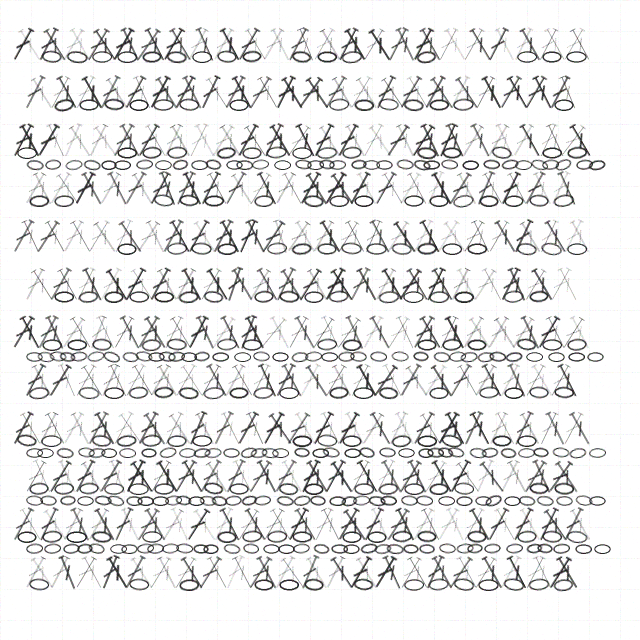chain: (452, 193, 475, 209), (540, 241, 563, 257), (440, 433, 463, 449), (53, 97, 75, 113), (553, 193, 575, 208), (453, 577, 475, 592), (503, 577, 525, 592), (491, 145, 512, 160), (153, 193, 174, 208), (516, 337, 537, 352), (16, 433, 37, 448), (203, 481, 224, 496), (66, 50, 88, 64), (341, 50, 363, 64), (316, 146, 338, 160), (378, 290, 400, 304), (28, 386, 50, 400), (78, 386, 100, 400), (203, 386, 225, 400), (566, 530, 588, 544), (166, 50, 187, 64), (291, 50, 312, 64), (416, 50, 437, 64), (403, 98, 424, 112), (216, 146, 237, 160), (416, 146, 437, 160), (303, 194, 324, 208), (291, 242, 312, 256), (391, 242, 412, 256), (516, 242, 537, 256), (78, 290, 99, 304), (178, 290, 199, 304), (203, 290, 224, 304), (141, 338, 162, 352), (178, 386, 199, 400), (253, 386, 274, 400), (378, 386, 399, 400), (91, 434, 112, 448), (116, 434, 137, 448), (391, 434, 412, 448), (278, 482, 299, 496), (378, 482, 399, 496), (91, 530, 112, 544), (553, 578, 574, 592), (528, 578, 550, 591), (554, 157, 573, 172), (484, 493, 503, 508), (41, 50, 62, 63), (378, 98, 399, 111), (453, 98, 474, 111), (266, 146, 287, 159), (191, 242, 212, 255), (341, 242, 362, 255), (328, 290, 349, 303), (503, 290, 524, 303), (166, 338, 187, 351), (128, 386, 149, 399), (141, 434, 162, 447), (353, 578, 374, 591), (428, 578, 449, 591), (530, 158, 549, 172), (102, 350, 121, 364), (106, 494, 125, 508), (217, 50, 237, 63), (242, 50, 262, 63), (104, 98, 124, 111), (179, 98, 199, 111), (329, 98, 349, 111), (142, 146, 162, 159), (167, 146, 187, 159), (342, 146, 362, 159), (567, 146, 587, 159), (179, 194, 199, 207), (529, 194, 549, 207), (167, 242, 187, 255), (267, 242, 287, 255), (417, 242, 437, 255), (254, 290, 274, 303), (279, 290, 299, 303), (529, 290, 549, 303), (92, 338, 112, 351), (217, 338, 237, 351), (317, 338, 337, 351), (442, 338, 462, 351), (567, 338, 587, 351), (154, 386, 174, 399), (329, 386, 349, 399), (479, 386, 499, 399), (529, 386, 549, 399), (554, 386, 574, 399), (317, 434, 337, 447), (29, 482, 49, 495), (54, 482, 74, 495), (79, 482, 99, 495), (454, 482, 474, 495), (529, 482, 549, 495), (554, 482, 574, 495), (42, 530, 62, 543), (242, 530, 262, 543), (267, 530, 287, 543), (392, 530, 412, 543), (417, 530, 437, 543), (467, 530, 487, 543), (517, 530, 537, 543), (542, 530, 562, 543), (29, 578, 49, 591), (129, 578, 149, 591), (304, 578, 324, 591), (566, 51, 587, 63), (153, 99, 174, 111), (413, 158, 431, 172), (366, 243, 387, 255), (403, 291, 424, 303), (353, 387, 374, 399), (41, 435, 62, 447), (358, 446, 376, 460), (128, 483, 149, 495), (66, 531, 87, 543), (478, 579, 499, 591), (92, 51, 112, 63), (117, 51, 137, 63), (142, 51, 162, 63), (192, 51, 212, 63), (317, 51, 337, 63), (517, 51, 537, 63), (542, 51, 562, 63), (79, 99, 99, 111), (129, 99, 149, 111), (229, 99, 249, 111), (354, 99, 374, 111), (429, 99, 449, 111), (554, 99, 574, 111), (17, 147, 37, 159), (117, 147, 137, 159), (242, 147, 262, 159), (292, 147, 312, 159), (442, 147, 462, 159), (542, 147, 562, 159), (29, 195, 49, 207), (54, 195, 74, 207), (204, 195, 224, 207), (254, 195, 274, 207), (329, 195, 349, 207), (354, 195, 374, 207), (404, 195, 424, 207), (429, 195, 449, 207), (479, 195, 499, 207), (504, 195, 524, 207), (117, 243, 137, 255), (217, 243, 237, 255), (317, 243, 337, 255), (442, 243, 462, 255), (467, 243, 487, 255), (567, 243, 587, 255), (54, 291, 74, 303), (104, 291, 124, 303), (129, 291, 149, 303), (154, 291, 174, 303), (304, 291, 324, 303), (429, 291, 449, 303), (454, 291, 474, 303), (42, 339, 62, 351), (67, 339, 87, 351), (242, 339, 262, 351), (342, 339, 362, 351), (417, 339, 437, 351), (467, 339, 487, 351), (542, 339, 562, 351), (104, 387, 124, 399), (229, 387, 249, 399), (279, 387, 299, 399), (429, 387, 449, 399), (504, 387, 524, 399), (167, 435, 187, 447), (192, 435, 212, 447), (292, 435, 312, 447), (342, 435, 362, 447), (417, 435, 437, 447), (492, 435, 512, 447), (517, 435, 537, 447), (104, 483, 124, 495), (154, 483, 174, 495), (229, 483, 249, 495), (304, 483, 324, 495), (354, 483, 374, 495), (404, 483, 424, 495), (429, 483, 449, 495), (17, 531, 37, 543), (142, 531, 162, 543), (217, 531, 237, 543), (292, 531, 312, 543), (342, 531, 362, 543), (367, 531, 387, 543), (179, 579, 199, 591), (254, 579, 274, 591), (279, 579, 299, 591), (404, 579, 424, 591), (501, 158, 519, 171), (87, 350, 105, 363), (135, 350, 153, 363), (159, 446, 177, 459), (240, 446, 258, 459), (322, 446, 340, 459), (447, 446, 465, 459), (293, 494, 311, 507), (575, 494, 593, 507), (360, 542, 378, 555), (172, 158, 189, 171), (205, 158, 222, 171), (437, 446, 454, 459), (241, 494, 258, 507), (88, 542, 105, 555), (26, 159, 44, 171), (65, 159, 83, 171), (83, 159, 101, 171), (588, 159, 606, 171), (37, 351, 55, 363), (291, 351, 309, 363), (433, 351, 451, 363), (460, 351, 478, 363), (477, 351, 495, 363), (505, 351, 523, 363), (56, 447, 74, 459), (88, 447, 106, 459), (193, 447, 211, 459), (204, 447, 222, 459), (250, 447, 268, 459), (261, 447, 279, 459), (469, 447, 487, 459), (569, 447, 587, 459), (199, 495, 217, 507), (276, 495, 294, 507), (368, 495, 386, 507), (518, 495, 536, 507), (536, 495, 554, 507), (223, 543, 241, 555), (374, 543, 392, 555), (386, 543, 404, 555), (59, 351, 76, 363), (122, 351, 139, 363), (500, 447, 517, 459), (211, 495, 228, 507), (341, 495, 358, 507), (313, 543, 330, 555), (396, 159, 414, 170), (49, 351, 67, 362), (70, 351, 88, 362), (158, 351, 176, 362), (391, 351, 409, 362), (481, 447, 499, 458), (552, 447, 570, 458), (94, 495, 112, 506), (456, 543, 474, 554), (136, 159, 153, 170), (252, 159, 269, 170), (295, 159, 312, 170), (441, 159, 458, 170), (483, 159, 500, 170), (542, 159, 559, 170), (576, 159, 593, 170), (168, 351, 185, 362), (253, 351, 270, 362), (305, 351, 322, 362), (338, 351, 355, 362), (350, 351, 367, 362), (370, 351, 387, 362), (449, 351, 466, 362), (489, 351, 506, 362), (78, 447, 95, 458), (379, 447, 396, 458), (427, 447, 444, 458), (26, 495, 43, 506), (40, 495, 57, 506), (165, 495, 182, 506), (175, 495, 192, 506), (225, 495, 242, 506), (254, 495, 271, 506), (353, 495, 370, 506), (380, 495, 397, 506), (401, 495, 418, 506), (416, 495, 433, 506), (26, 543, 43, 554), (44, 543, 61, 554), (63, 543, 80, 554), (137, 543, 154, 554), (147, 543, 164, 554), (162, 543, 179, 554), (176, 543, 193, 554), (293, 543, 310, 554), (439, 543, 456, 554), (484, 543, 501, 554), (506, 543, 523, 554), (526, 543, 543, 554), (553, 543, 570, 554), (45, 159, 61, 170), (319, 159, 335, 170), (351, 159, 367, 170), (194, 351, 210, 362), (413, 351, 429, 362), (294, 447, 310, 458), (533, 447, 549, 458), (60, 495, 76, 506), (310, 495, 326, 506), (77, 543, 93, 554), (243, 543, 259, 554), (467, 543, 483, 554), (537, 543, 553, 554), (114, 160, 131, 170), (155, 160, 172, 170), (191, 160, 208, 170), (226, 160, 243, 170), (236, 160, 253, 170), (274, 160, 291, 170), (307, 160, 324, 170), (329, 160, 346, 170), (363, 160, 380, 170), (376, 160, 393, 170), (423, 160, 440, 170), (462, 160, 479, 170), (515, 160, 532, 170), (26, 352, 43, 362), (148, 352, 165, 362), (212, 352, 229, 362), (234, 352, 251, 362), (272, 352, 289, 362), (321, 352, 338, 362), (526, 352, 543, 362), (548, 352, 565, 362), (568, 352, 585, 362), (587, 352, 604, 362), (26, 448, 43, 458), (37, 448, 54, 458), (119, 448, 136, 458), (179, 448, 196, 458), (223, 448, 240, 458), (272, 448, 289, 458), (312, 448, 329, 458), (344, 448, 361, 458), (398, 448, 415, 458), (518, 448, 535, 458), (589, 448, 606, 458), (77, 496, 94, 506), (126, 496, 143, 506), (137, 496, 154, 506), (152, 496, 169, 506), (188, 496, 205, 506), (329, 496, 346, 506), (438, 496, 455, 506), (456, 496, 473, 506), (475, 496, 492, 506), (504, 496, 521, 506), (556, 496, 573, 506), (589, 496, 606, 506), (110, 544, 127, 554), (121, 544, 138, 554), (263, 544, 280, 554), (278, 544, 295, 554), (331, 544, 348, 554), (343, 544, 360, 554), (575, 544, 592, 554), (594, 544, 611, 554), (101, 160, 117, 170), (181, 352, 197, 362), (101, 448, 117, 458), (141, 448, 157, 458), (418, 448, 434, 458), (193, 544, 209, 554), (203, 544, 219, 554), (403, 544, 419, 554), (419, 544, 435, 554)
double: (257, 315, 289, 350), (477, 459, 508, 495), (557, 123, 588, 158), (133, 27, 163, 63), (295, 75, 325, 111), (303, 75, 333, 111), (378, 75, 408, 111), (91, 123, 121, 159), (283, 123, 313, 159), (366, 123, 396, 159), (53, 171, 83, 207), (328, 171, 358, 207), (116, 219, 146, 255), (133, 219, 163, 255), (283, 219, 313, 255), (58, 315, 88, 351), (208, 315, 238, 351), (333, 315, 363, 351), (370, 363, 400, 399), (116, 411, 146, 447), (266, 411, 296, 447), (453, 459, 483, 495), (545, 459, 575, 495), (41, 507, 71, 543), (541, 507, 571, 543), (28, 555, 58, 591), (278, 555, 308, 591), (445, 555, 475, 591), (16, 27, 45, 63), (41, 27, 70, 63), (83, 27, 112, 63), (91, 27, 120, 63), (366, 27, 395, 63), (28, 75, 57, 111), (103, 75, 132, 111), (153, 75, 182, 111), (203, 75, 232, 111), (245, 75, 274, 111), (353, 75, 382, 111), (428, 75, 457, 111), (453, 75, 482, 111), (66, 123, 95, 159), (208, 123, 237, 159), (241, 123, 270, 159), (316, 123, 345, 159), (383, 123, 412, 159), (408, 123, 437, 159), (458, 123, 487, 159), (228, 171, 257, 207), (245, 171, 274, 207), (303, 171, 332, 207), (395, 171, 424, 207), (445, 171, 474, 207), (33, 219, 62, 255), (91, 219, 120, 255), (191, 219, 220, 255), (258, 219, 287, 255), (333, 219, 362, 255), (383, 219, 412, 255), (391, 219, 420, 255), (433, 219, 462, 255), (441, 219, 470, 255), (28, 267, 57, 303), (103, 267, 132, 303), (128, 267, 157, 303), (245, 267, 274, 303), (278, 267, 307, 303), (295, 267, 324, 303), (328, 267, 357, 303), (395, 267, 424, 303), (470, 267, 499, 303), (520, 267, 549, 303), (308, 315, 337, 351), (383, 315, 412, 351), (466, 315, 495, 351), (491, 315, 520, 351), (508, 315, 537, 351), (558, 315, 587, 351), (45, 363, 74, 399), (78, 363, 107, 399), (178, 363, 207, 399), (303, 363, 332, 399), (403, 363, 432, 399), (420, 363, 449, 399), (428, 363, 457, 399), (141, 411, 170, 447), (166, 411, 195, 447), (283, 411, 312, 447), (358, 411, 387, 447), (45, 459, 74, 495), (78, 459, 107, 495), (128, 459, 157, 495), (203, 459, 232, 495), (245, 459, 274, 495), (328, 459, 357, 495), (395, 459, 424, 495), (420, 459, 449, 495), (520, 459, 549, 495), (553, 459, 582, 495), (133, 507, 162, 543), (158, 507, 187, 543), (183, 507, 212, 543), (191, 507, 220, 543), (233, 507, 262, 543), (341, 507, 370, 543), (383, 507, 412, 543), (128, 555, 157, 591), (145, 555, 174, 591), (170, 555, 199, 591), (178, 555, 207, 591), (195, 555, 224, 591), (245, 555, 274, 591), (303, 555, 332, 591), (328, 555, 357, 591), (353, 555, 382, 591), (470, 555, 499, 591), (545, 555, 574, 591), (67, 26, 95, 63), (109, 26, 137, 63), (159, 26, 187, 63), (167, 26, 195, 63), (209, 26, 237, 63), (234, 26, 262, 63), (242, 26, 270, 63), (259, 26, 287, 63), (309, 26, 337, 63), (317, 26, 345, 63), (342, 26, 370, 63), (359, 26, 387, 63), (417, 26, 445, 63), (442, 26, 470, 63), (459, 26, 487, 63), (467, 26, 495, 63), (517, 26, 545, 63), (559, 26, 587, 63), (79, 74, 107, 111), (254, 74, 282, 111), (321, 74, 349, 111), (329, 74, 357, 111), (346, 74, 374, 111), (396, 74, 424, 111), (404, 74, 432, 111), (496, 74, 524, 111), (504, 74, 532, 111), (521, 74, 549, 111), (34, 122, 62, 159), (109, 122, 137, 159), (134, 122, 162, 159), (142, 122, 170, 159), (167, 122, 195, 159), (217, 122, 245, 159), (267, 122, 295, 159), (342, 122, 370, 159), (484, 122, 512, 159), (509, 122, 537, 159), (567, 122, 595, 159), (21, 170, 49, 207), (46, 170, 74, 207), (96, 170, 124, 207), (121, 170, 149, 207), (129, 170, 157, 207), (221, 170, 249, 207), (271, 170, 299, 207), (296, 170, 324, 207), (321, 170, 349, 207), (371, 170, 399, 207), (379, 170, 407, 207), (479, 170, 507, 207), (9, 218, 37, 255), (59, 218, 87, 255), (67, 218, 95, 255), (84, 218, 112, 255), (184, 218, 212, 255), (292, 218, 320, 255), (309, 218, 337, 255), (317, 218, 345, 255), (459, 218, 487, 255), (484, 218, 512, 255), (492, 218, 520, 255), (542, 218, 570, 255), (46, 266, 74, 303), (54, 266, 82, 303), (96, 266, 124, 303), (154, 266, 182, 303), (171, 266, 199, 303), (196, 266, 224, 303), (204, 266, 232, 303), (229, 266, 257, 303), (254, 266, 282, 303), (304, 266, 332, 303), (371, 266, 399, 303), (379, 266, 407, 303), (404, 266, 432, 303), (429, 266, 457, 303), (529, 266, 557, 303), (546, 266, 574, 303), (9, 314, 37, 351), (67, 314, 95, 351), (109, 314, 137, 351), (134, 314, 162, 351), (142, 314, 170, 351), (167, 314, 195, 351), (409, 314, 437, 351), (417, 314, 445, 351), (459, 314, 487, 351), (484, 314, 512, 351), (534, 314, 562, 351), (71, 362, 99, 399), (129, 362, 157, 399), (146, 362, 174, 399), (154, 362, 182, 399), (171, 362, 199, 399), (196, 362, 224, 399), (229, 362, 257, 399), (321, 362, 349, 399), (396, 362, 424, 399), (446, 362, 474, 399), (454, 362, 482, 399), (471, 362, 499, 399), (529, 362, 557, 399), (17, 410, 45, 447), (59, 410, 87, 447), (259, 410, 287, 447), (292, 410, 320, 447), (334, 410, 362, 447), (367, 410, 395, 447), (409, 410, 437, 447), (434, 410, 462, 447), (21, 458, 49, 495), (96, 458, 124, 495), (146, 458, 174, 495), (154, 458, 182, 495), (171, 458, 199, 495), (179, 458, 207, 495), (196, 458, 224, 495), (271, 458, 299, 495), (279, 458, 307, 495), (304, 458, 332, 495), (354, 458, 382, 495), (17, 506, 45, 543), (84, 506, 112, 543), (142, 506, 170, 543), (242, 506, 270, 543), (259, 506, 287, 543), (267, 506, 295, 543), (292, 506, 320, 543), (334, 506, 362, 543), (409, 506, 437, 543), (434, 506, 462, 543), (459, 506, 487, 543), (517, 506, 545, 543), (567, 506, 595, 543), (21, 554, 49, 591), (71, 554, 99, 591), (104, 554, 132, 591), (346, 554, 374, 591), (371, 554, 399, 591), (404, 554, 432, 591), (429, 554, 457, 591), (479, 554, 507, 591), (496, 554, 524, 591), (554, 554, 582, 591), (59, 27, 87, 63), (279, 75, 307, 111), (517, 219, 545, 255), (417, 411, 445, 447), (396, 555, 424, 591), (9, 26, 36, 63), (142, 26, 169, 63), (184, 26, 211, 63), (217, 26, 244, 63), (284, 26, 311, 63), (334, 26, 361, 63), (384, 26, 411, 63), (409, 26, 436, 63), (434, 26, 461, 63), (484, 26, 511, 63), (492, 26, 519, 63), (534, 26, 561, 63), (542, 26, 569, 63), (567, 26, 594, 63), (21, 74, 48, 111), (46, 74, 73, 111), (54, 74, 81, 111), (71, 74, 98, 111), (96, 74, 123, 111), (121, 74, 148, 111), (146, 74, 173, 111), (171, 74, 198, 111), (221, 74, 248, 111), (229, 74, 256, 111), (421, 74, 448, 111), (446, 74, 473, 111), (471, 74, 498, 111), (479, 74, 506, 111), (546, 74, 573, 111), (9, 122, 36, 159), (17, 122, 44, 159), (117, 122, 144, 159), (192, 122, 219, 159), (234, 122, 261, 159), (334, 122, 361, 159), (359, 122, 386, 159), (517, 122, 544, 159), (71, 170, 98, 207), (79, 170, 106, 207), (146, 170, 173, 207), (204, 170, 231, 207), (254, 170, 281, 207), (279, 170, 306, 207), (346, 170, 373, 207), (354, 170, 381, 207), (404, 170, 431, 207), (429, 170, 456, 207), (454, 170, 481, 207), (504, 170, 531, 207), (521, 170, 548, 207), (42, 218, 69, 255), (159, 218, 186, 255), (167, 218, 194, 255), (209, 218, 236, 255), (217, 218, 244, 255), (342, 218, 369, 255), (367, 218, 394, 255), (409, 218, 436, 255), (417, 218, 444, 255), (567, 218, 594, 255), (21, 266, 48, 303), (121, 266, 148, 303), (146, 266, 173, 303), (179, 266, 206, 303), (321, 266, 348, 303), (346, 266, 373, 303), (354, 266, 381, 303), (454, 266, 481, 303), (479, 266, 506, 303), (17, 314, 44, 351), (34, 314, 61, 351), (117, 314, 144, 351), (184, 314, 211, 351), (242, 314, 269, 351), (267, 314, 294, 351), (284, 314, 311, 351), (292, 314, 319, 351), (359, 314, 386, 351), (367, 314, 394, 351), (442, 314, 469, 351), (567, 314, 594, 351), (21, 362, 48, 399), (29, 362, 56, 399), (121, 362, 148, 399), (204, 362, 231, 399), (221, 362, 248, 399), (279, 362, 306, 399), (296, 362, 323, 399), (329, 362, 356, 399), (346, 362, 373, 399), (354, 362, 381, 399), (479, 362, 506, 399), (496, 362, 523, 399), (521, 362, 548, 399), (546, 362, 573, 399), (9, 410, 36, 447), (42, 410, 69, 447), (84, 410, 111, 447), (92, 410, 119, 447), (109, 410, 136, 447), (134, 410, 161, 447), (192, 410, 219, 447), (234, 410, 261, 447), (309, 410, 336, 447), (342, 410, 369, 447), (392, 410, 419, 447), (442, 410, 469, 447), (467, 410, 494, 447), (492, 410, 519, 447), (517, 410, 544, 447), (559, 410, 586, 447), (567, 410, 594, 447), (71, 458, 98, 495), (254, 458, 281, 495), (321, 458, 348, 495), (346, 458, 373, 495), (371, 458, 398, 495), (379, 458, 406, 495), (429, 458, 456, 495), (446, 458, 473, 495), (496, 458, 523, 495), (504, 458, 531, 495), (9, 506, 36, 543), (59, 506, 86, 543), (92, 506, 119, 543), (217, 506, 244, 543), (284, 506, 311, 543), (467, 506, 494, 543), (484, 506, 511, 543), (492, 506, 519, 543), (509, 506, 536, 543), (46, 554, 73, 591), (79, 554, 106, 591), (121, 554, 148, 591), (154, 554, 181, 591), (204, 554, 231, 591), (229, 554, 256, 591), (254, 554, 281, 591), (271, 554, 298, 591), (454, 554, 481, 591), (504, 554, 531, 591), (521, 554, 548, 591), (35, 26, 61, 63), (118, 26, 144, 63), (268, 26, 294, 63), (393, 26, 419, 63), (510, 26, 536, 63), (180, 74, 206, 111), (197, 74, 223, 111), (272, 74, 298, 111), (372, 74, 398, 111), (530, 74, 556, 111), (43, 122, 69, 159), (85, 122, 111, 159), (160, 122, 186, 159), (185, 122, 211, 159), (260, 122, 286, 159), (293, 122, 319, 159), (310, 122, 336, 159), (393, 122, 419, 159), (418, 122, 444, 159), (468, 122, 494, 159), (30, 170, 56, 207), (105, 170, 131, 207), (172, 170, 198, 207), (180, 170, 206, 207), (197, 170, 223, 207), (497, 170, 523, 207), (530, 170, 556, 207), (547, 170, 573, 207), (18, 218, 44, 255), (143, 218, 169, 255), (243, 218, 269, 255), (468, 218, 494, 255), (510, 218, 536, 255), (535, 218, 561, 255), (560, 218, 586, 255), (72, 266, 98, 303), (80, 266, 106, 303), (272, 266, 298, 303), (422, 266, 448, 303), (447, 266, 473, 303), (497, 266, 523, 303), (555, 266, 581, 303), (93, 314, 119, 351), (160, 314, 186, 351), (193, 314, 219, 351), (218, 314, 244, 351), (318, 314, 344, 351), (435, 314, 461, 351), (518, 314, 544, 351), (543, 314, 569, 351), (97, 362, 123, 399), (105, 362, 131, 399), (247, 362, 273, 399), (255, 362, 281, 399), (272, 362, 298, 399), (380, 362, 406, 399), (555, 362, 581, 399), (35, 410, 61, 447), (68, 410, 94, 447), (160, 410, 186, 447), (210, 410, 236, 447), (218, 410, 244, 447), (318, 410, 344, 447), (385, 410, 411, 447), (460, 410, 486, 447), (485, 410, 511, 447), (510, 410, 536, 447), (535, 410, 561, 447), (543, 410, 569, 447), (55, 458, 81, 495), (122, 458, 148, 495), (222, 458, 248, 495), (230, 458, 256, 495), (297, 458, 323, 495), (405, 458, 431, 495), (35, 506, 61, 543), (68, 506, 94, 543), (110, 506, 136, 543), (118, 506, 144, 543), (210, 506, 236, 543), (310, 506, 336, 543), (318, 506, 344, 543), (360, 506, 386, 543), (368, 506, 394, 543), (393, 506, 419, 543), (418, 506, 444, 543), (443, 506, 469, 543), (535, 506, 561, 543), (560, 506, 586, 543), (322, 554, 348, 591), (530, 554, 556, 591), (193, 26, 218, 63), (130, 74, 155, 111), (60, 122, 85, 159), (435, 122, 460, 159), (443, 122, 468, 159), (493, 122, 518, 159), (535, 122, 560, 159), (543, 122, 568, 159), (555, 170, 580, 207), (110, 218, 135, 255), (235, 218, 260, 255), (360, 218, 385, 255), (505, 266, 530, 303), (43, 314, 68, 351), (343, 314, 368, 351), (393, 314, 418, 351), (55, 362, 80, 399), (505, 362, 530, 399), (185, 410, 210, 447), (243, 410, 268, 447), (30, 458, 55, 495), (472, 458, 497, 495), (530, 458, 555, 495), (168, 506, 193, 543), (222, 554, 247, 591), (297, 554, 322, 591), (380, 554, 405, 591), (422, 554, 447, 591), (294, 26, 318, 63), (556, 74, 580, 111), (156, 170, 180, 207), (423, 170, 447, 207), (473, 170, 497, 207), (86, 314, 110, 351), (236, 314, 260, 351), (106, 458, 130, 495), (56, 554, 80, 591), (98, 554, 122, 591), (223, 266, 246, 303), (270, 218, 292, 255)
